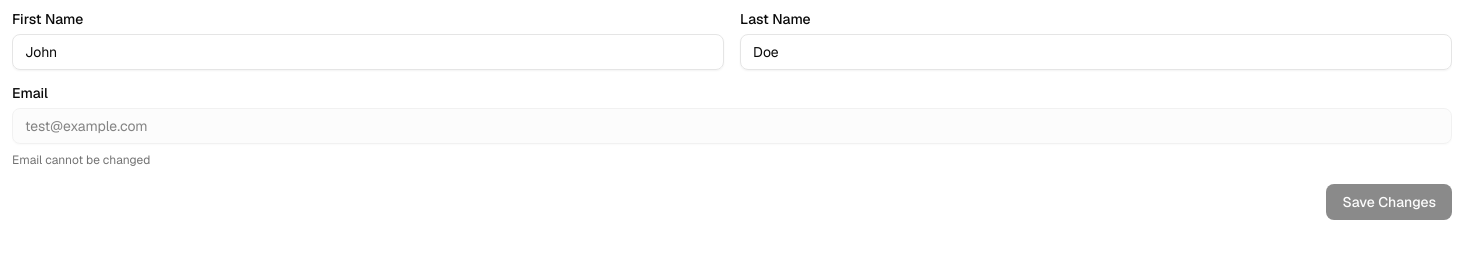
Test: ProfileForm › validates first name minimum length
Replace the text in the field labelled "First Name" with "A" at {"x": 368, "y": 52}, box [12, 34, 724, 70]
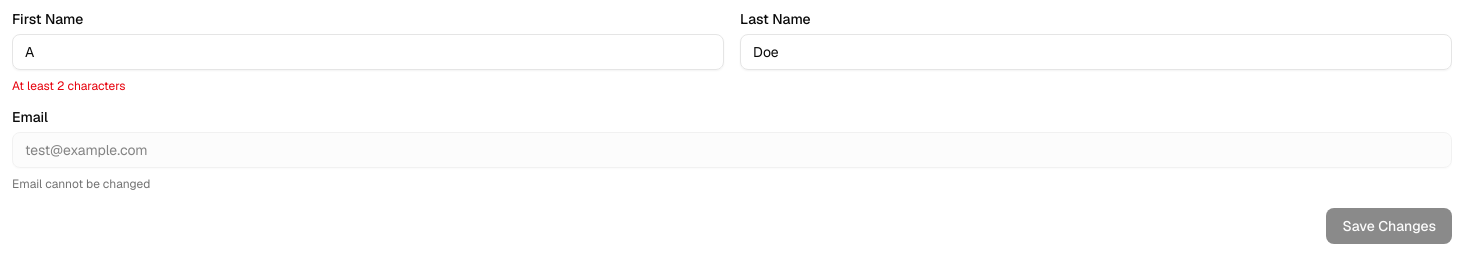
Now the text "At least 2 characters" is shown, box [12, 78, 126, 94]
